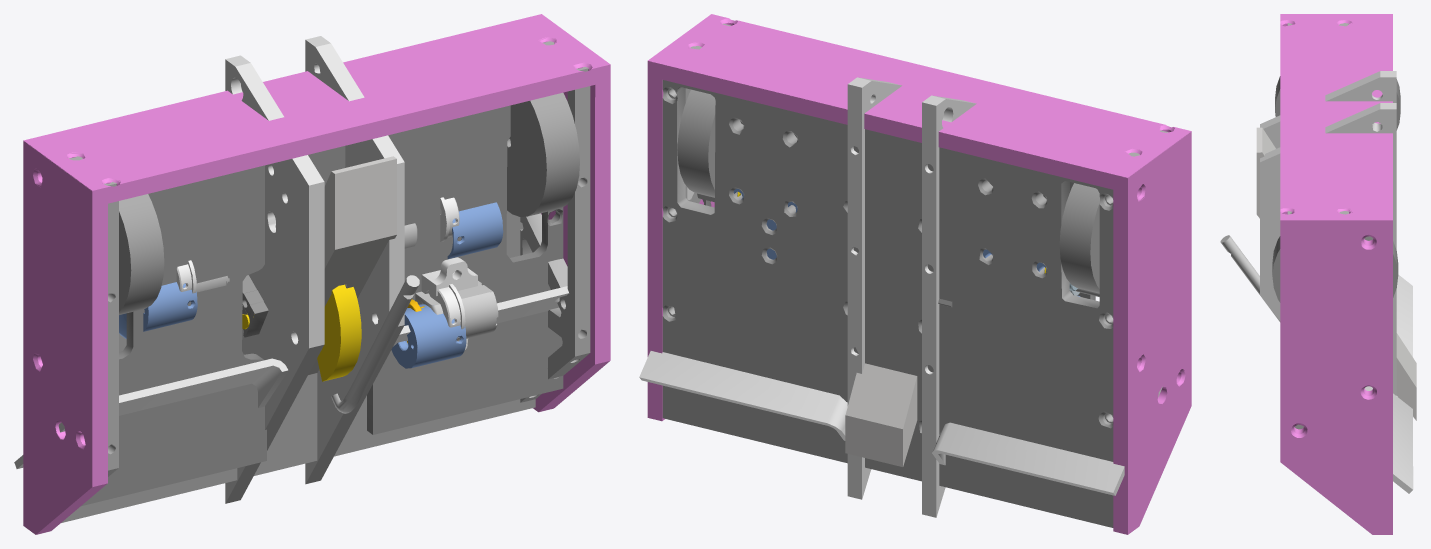
File: lp-opt.glb
The picture shows the model from 3 angles, left to right: view 1: azimuth 30°, elevation 25°; view 2: azimuth 150°, elevation 25°; view 3: azimuth 270°, elevation 25°; orthographic projection. The views are drawn at different scales.
Visible parts, largest first — view 1: back_wall_primitive0, microswith_v3_v4_primitive0, rail_primitive0, bottom_plate_primitive0, Part_6_primitive0, flipper_primitive0, Part_2_primitive0, cam_motor_mount_primitive0, Repeat_Drive_Brushed_primitive0_5, Repeat_Drive_Brushed_primitive0, microswith_v3_v4_primitive0_1; view 2: bottom_plate_primitive0, back_wall_primitive0, rail_primitive0, flipper_primitive0, Part_6_primitive0; view 3: back_wall_primitive0, rail_primitive0, flipper_primitive0, bottom_plate_primitive0, microswith_v3_v4_primitive0_1.
Boxes of the visible parts, x1,y1,x2,y2 form: back_wall_primitive0: (23,14,610,534); microswith_v3_v4_primitive0: (81,105,563,506); rail_primitive0: (14,36,568,503); bottom_plate_primitive0: (61,92,579,522); Part_6_primitive0: (69,41,590,476); flipper_primitive0: (308,156,396,374); Part_2_primitive0: (119,202,503,368); cam_motor_mount_primitive0: (176,197,477,349); Repeat_Drive_Brushed_primitive0_5: (242,284,361,381); Repeat_Drive_Brushed_primitive0: (196,223,498,340); microswith_v3_v4_primitive0_1: (331,275,419,413); bottom_plate_primitive0: (662,80,1113,527); back_wall_primitive0: (647,14,1191,534); rail_primitive0: (639,77,1162,517); flipper_primitive0: (845,363,917,466); Part_6_primitive0: (667,23,1168,423); back_wall_primitive0: (1280,14,1392,534); rail_primitive0: (1260,71,1413,493); flipper_primitive0: (1256,127,1416,420); bottom_plate_primitive0: (1272,76,1400,302); microswith_v3_v4_primitive0_1: (1220,235,1280,322).
Size of the model in its own units: 5204 by 4266 by 2090.
